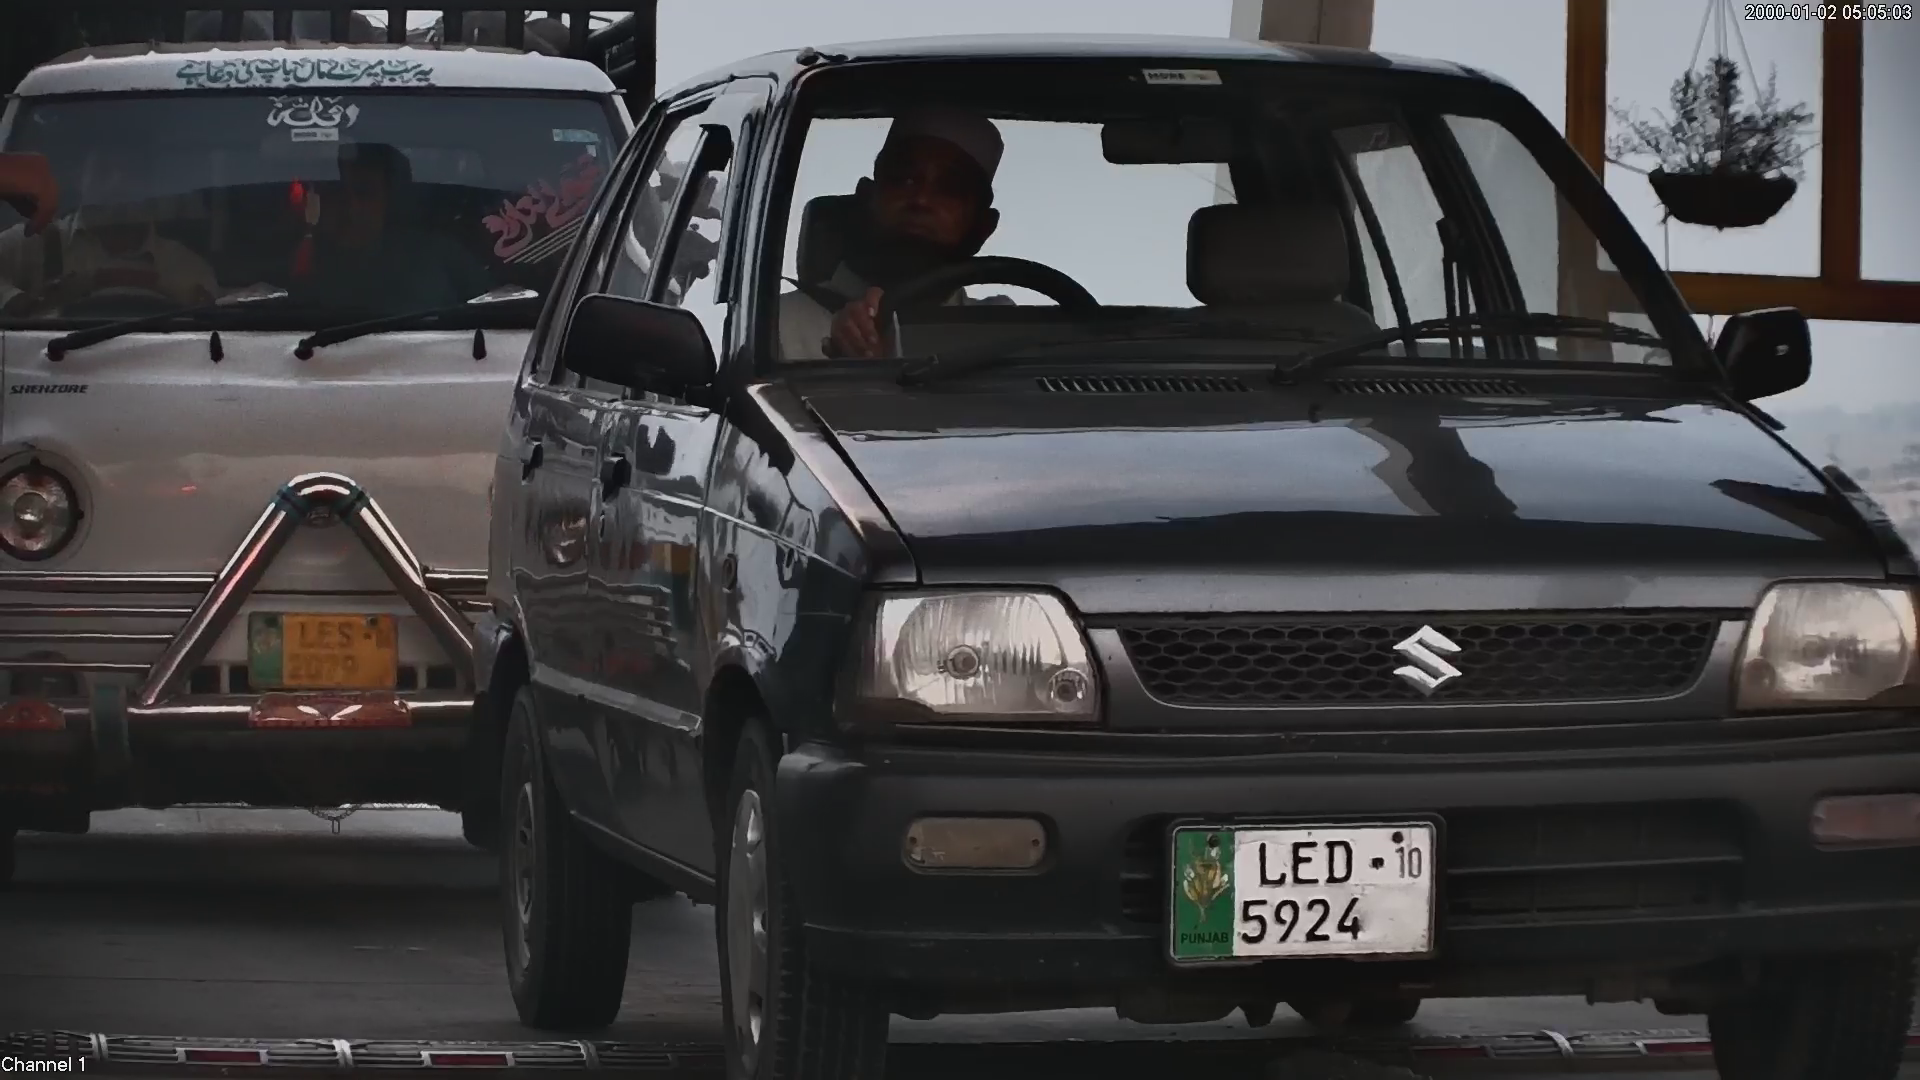Number_Plate: (1156, 804, 1447, 979)
